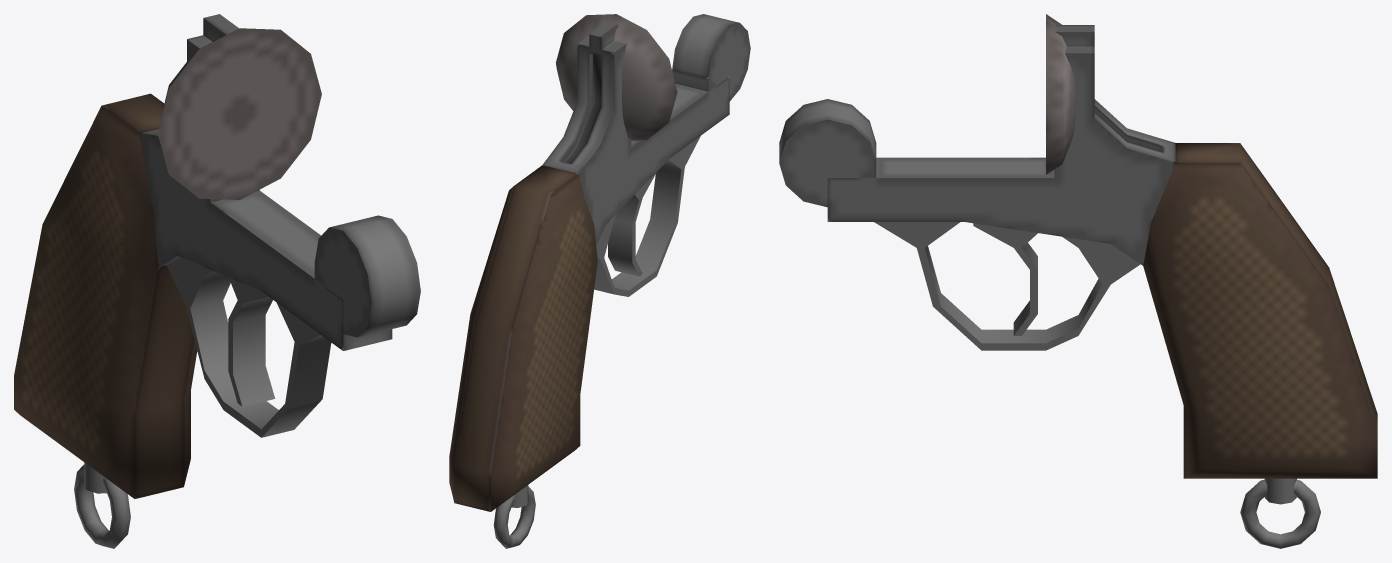
Rendered from revolver_grip.obj.
3 views of the same model, side by side, from view 1: azimuth 30°, elevation 25°; view 2: azimuth 150°, elevation 25°; view 3: azimuth 270°, elevation 25° (orthographic). The views are drawn at different scales.
Parts seen in each view (by area): view 1: Grip; view 2: Grip; view 3: Grip.
Part boxes in pixels (left/top/right/bottom): Grip: left=14, top=14, right=420, bottom=548; Grip: left=449, top=14, right=750, bottom=548; Grip: left=779, top=14, right=1377, bottom=548.
Bounding box in the file's own units: 2.5 × 9 × 9.25.
